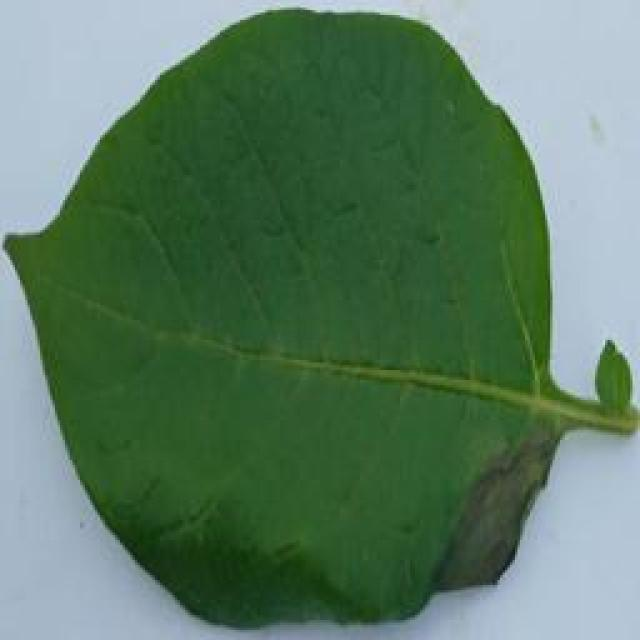Potato_Late_Blight: (5, 13, 626, 621)
